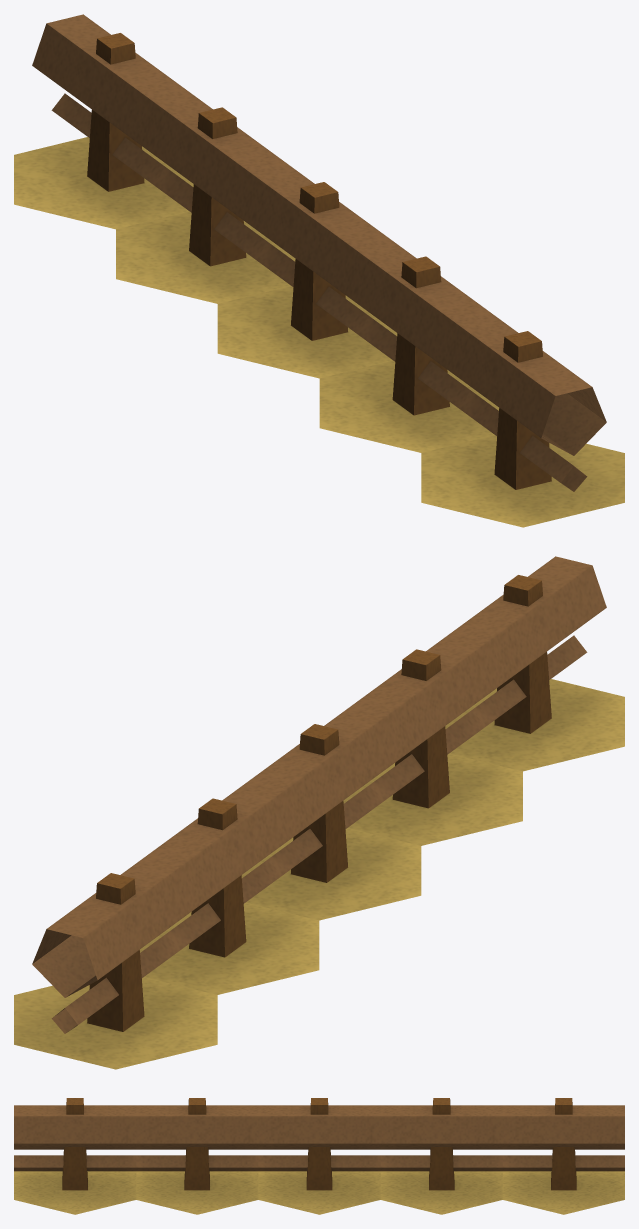
The model's file is BarriereDesert5_Centre.FBX.
3 views of the same model, one above another, from view 1: azimuth 30°, elevation 25°; view 2: azimuth 150°, elevation 25°; view 3: azimuth 270°, elevation 25° (orthographic). The views are drawn at different scales.
Visible parts, largest first — view 1: BarriereDesert5_Centre; view 2: BarriereDesert5_Centre; view 3: BarriereDesert5_Centre.
Boxes of the visible parts, bbox=[...] form: BarriereDesert5_Centre: bbox=[14, 14, 624, 527]; BarriereDesert5_Centre: bbox=[14, 556, 624, 1069]; BarriereDesert5_Centre: bbox=[14, 1098, 624, 1214].
Bounding box in the file's own units: 1 × 0.6525 × 4.33.
